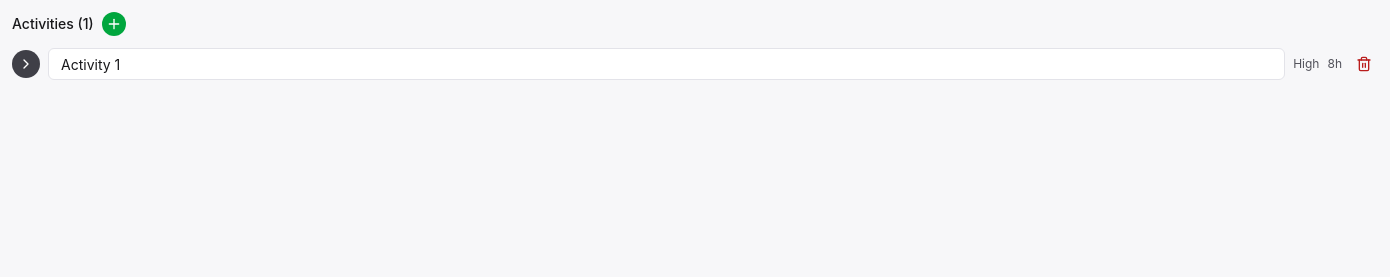
ActivityManager › Editing Activities › should expand activity when clicked
Step 1. Click the 2nd button → point(26, 64), box [12, 50, 40, 78]
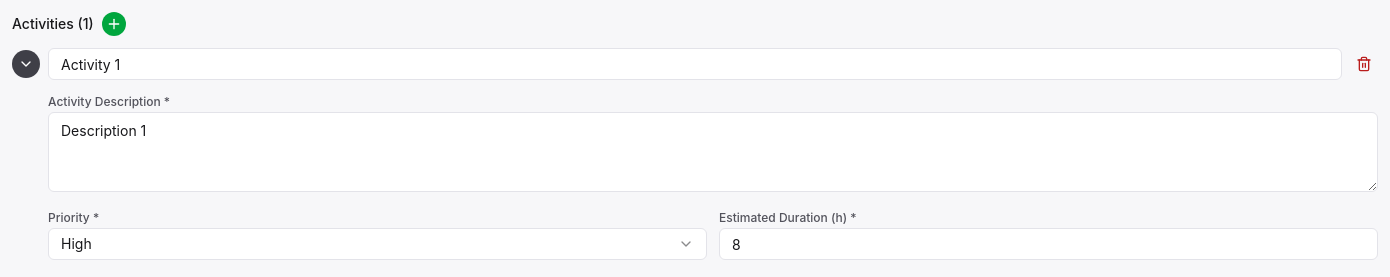
Check: the field with placeholder "Enter activity title" is shown, box [48, 48, 1342, 80]
Check: the text box labelled "Activity Description *" is shown, box [48, 112, 1378, 192]
